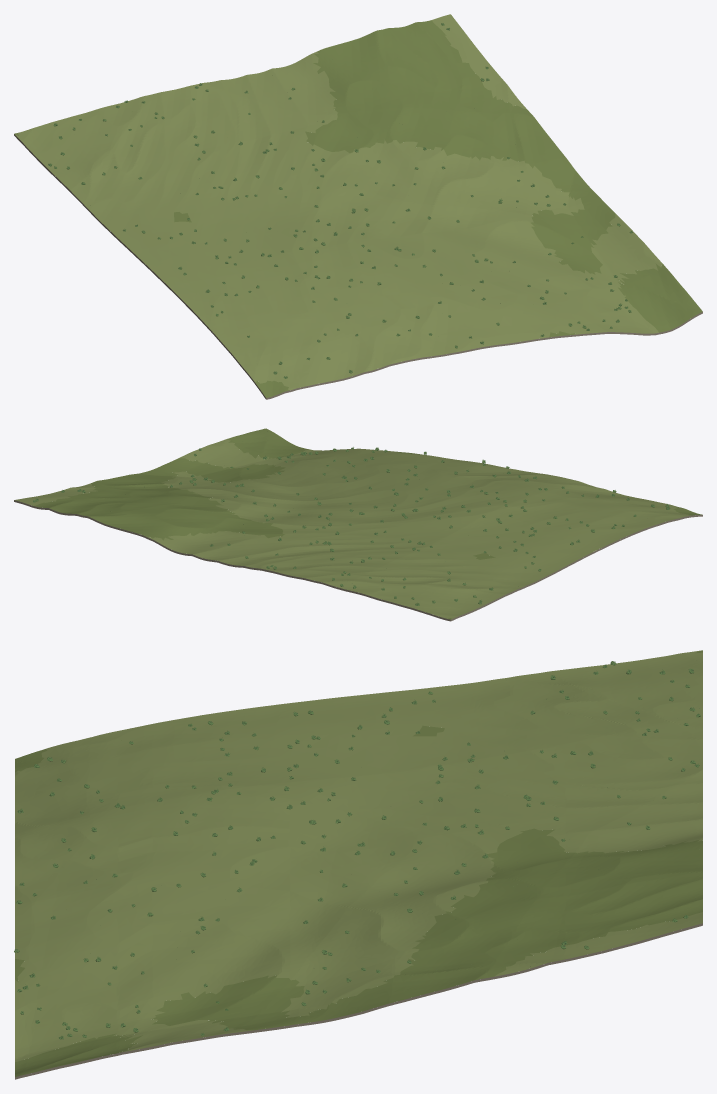
Rendered from parca_+4_-8-yakin.glb.
The picture shows the model from 3 angles, top to bottom: view 1: azimuth 30°, elevation 25°; view 2: azimuth 150°, elevation 25°; view 3: azimuth 270°, elevation 25°; orthographic projection. The views are drawn at different scales.
Parts seen in each view (by area): view 1: parca_+4_-8_arazi, parca_+4_-8_bitkiler; view 2: parca_+4_-8_arazi, parca_+4_-8_bitkiler; view 3: parca_+4_-8_arazi, parca_+4_-8_bitkiler.
Part boxes in pixels (x1,y1,x2,y2): parca_+4_-8_arazi: (14,14,702,399); parca_+4_-8_bitkiler: (48,23,694,378); parca_+4_-8_arazi: (14,428,702,621); parca_+4_-8_bitkiler: (33,447,670,605); parca_+4_-8_arazi: (15,650,702,1079); parca_+4_-8_bitkiler: (14,661,700,1039).
Size of the model in its own units: 1000 by 278 by 1002.
